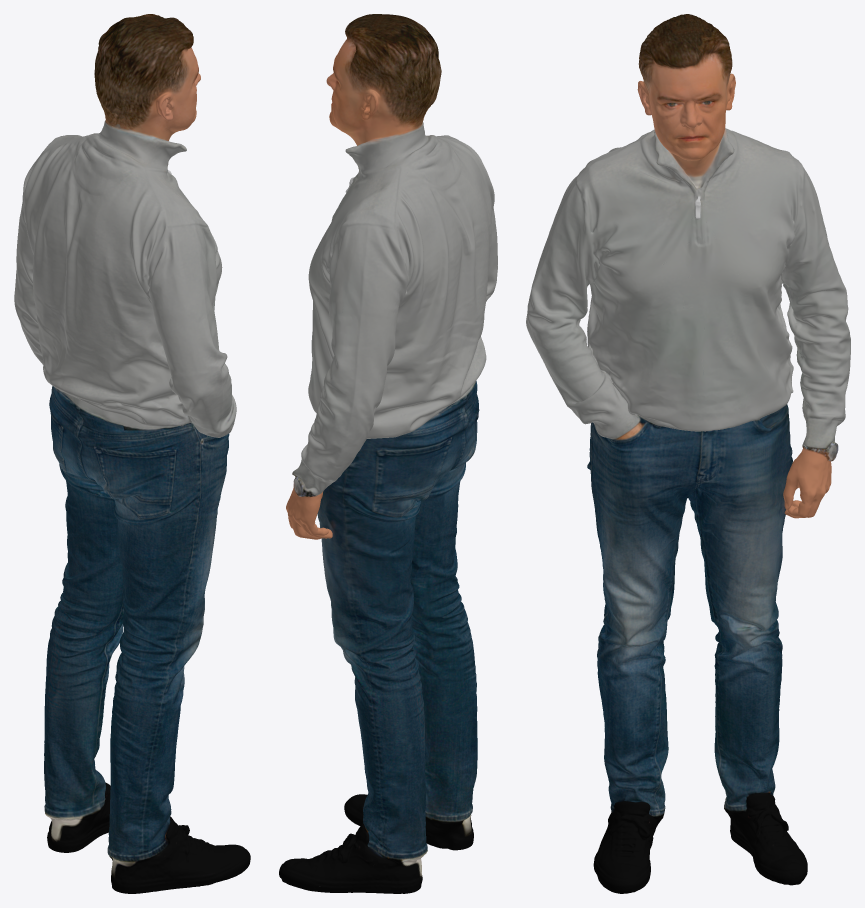
The picture shows the model from 3 angles, left to right: view 1: azimuth 30°, elevation 25°; view 2: azimuth 150°, elevation 25°; view 3: azimuth 270°, elevation 25°; orthographic projection.
Parts seen in each view (by area): view 1: 221109230509_221109230509_0 (×5); view 2: 221109230509_221109230509_0 (×5); view 3: 221109230509_221109230509_0 (×5).
Part boxes in pixels (bbox=[...]): 221109230509_221109230509_0 (×5): bbox=[14, 14, 250, 893]; 221109230509_221109230509_0 (×5): bbox=[279, 14, 497, 893]; 221109230509_221109230509_0 (×5): bbox=[526, 14, 850, 893].
Bounding box in the file's own units: 361 × 1835 × 646.
1 material, 1 textured.
